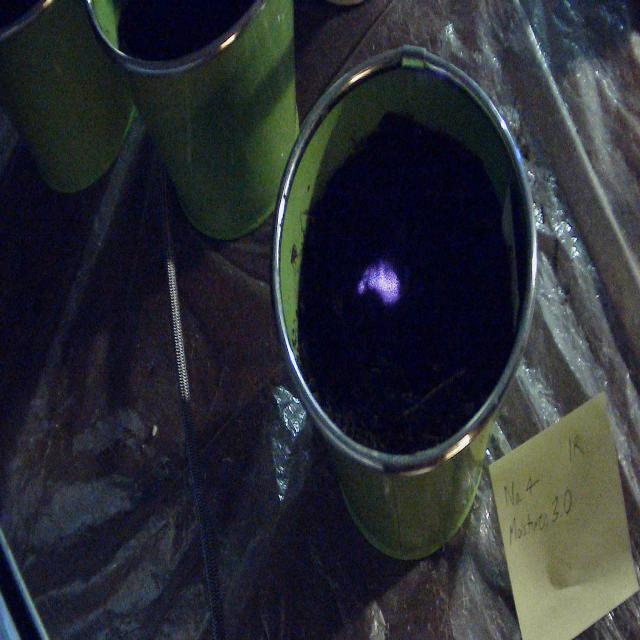soil-moisture-3.0: (357, 261, 401, 306)
